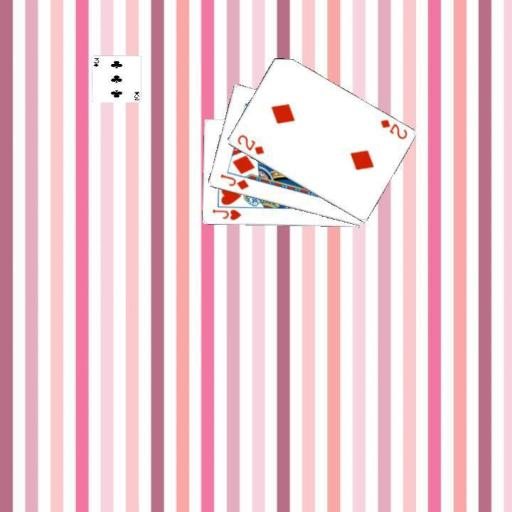card-corner: (377, 116, 409, 141), (234, 132, 265, 156), (217, 171, 250, 191), (209, 206, 243, 222)
